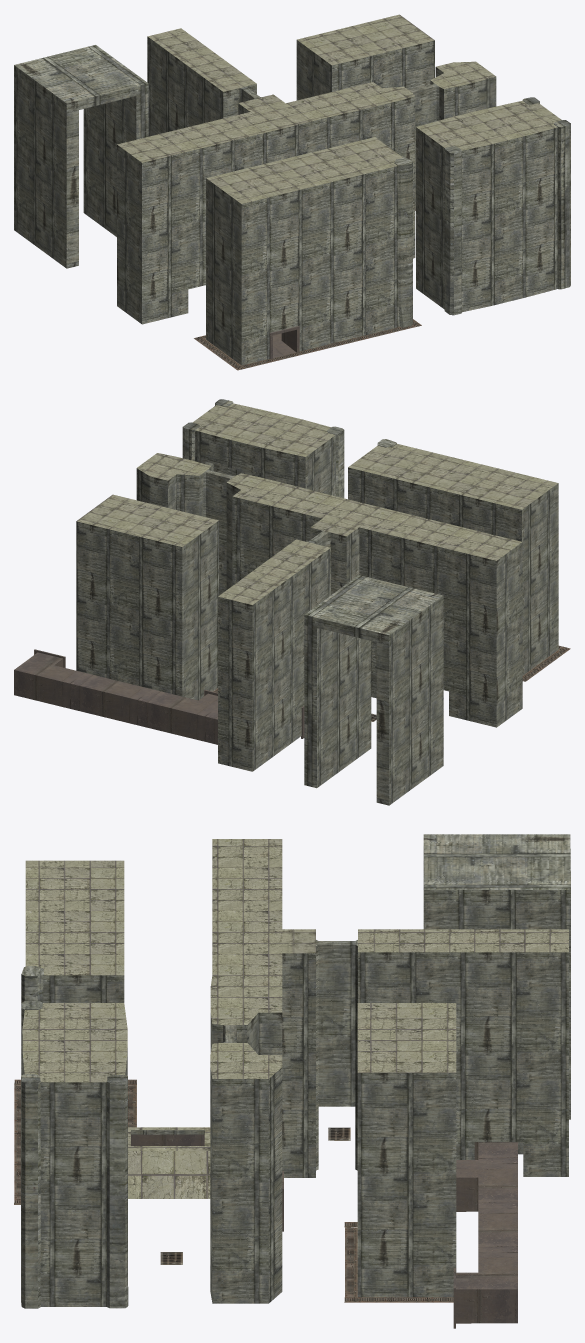
Rendered from SM_Republic_01_00.fbx.
3 views of the same model, one above another, from view 1: azimuth 30°, elevation 25°; view 2: azimuth 150°, elevation 25°; view 3: azimuth 270°, elevation 25° (orthographic). The views are drawn at different scales.
Visible parts, largest first — view 1: SM_Republic_01_00, SM_Republic_01_00.003, SM_Republic_01_00.001; view 2: SM_Republic_01_00, SM_Republic_01_00.001; view 3: SM_Republic_01_00, SM_Republic_01_00.001, SM_Republic_01_00.003.
Part boxes in pixels (x1,y1,x2,y2): SM_Republic_01_00: (14,14,570,365); SM_Republic_01_00.003: (194,208,421,370); SM_Republic_01_00.001: (269,326,299,359); SM_Republic_01_00: (76,399,558,805); SM_Republic_01_00.001: (14,649,304,744); SM_Republic_01_00: (21,834,570,1308); SM_Republic_01_00.001: (131,1134,517,1328); SM_Republic_01_00.003: (14,1079,453,1302).
Bounding box in the file's own units: 2539 × 1059 × 2281.
